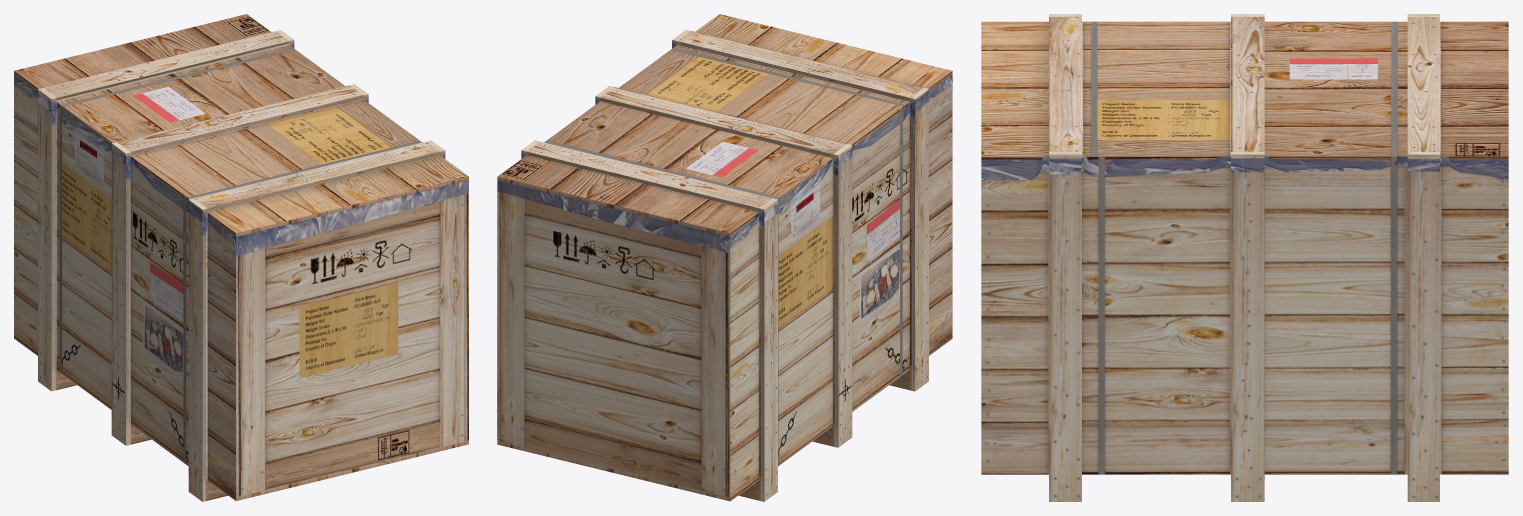
File: hero_crate.glb
3 renders of one model, left to right at view 1: azimuth 30°, elevation 25°; view 2: azimuth 150°, elevation 25°; view 3: azimuth 270°, elevation 25°, orthographic. The views are drawn at different scales.
Parts seen in each view (by area): view 1: Crate_1, Crate_lid; view 2: Crate_1, Crate_lid; view 3: Crate_1, Crate_lid.
Part boxes in pixels (<box>): Crate_1: <box>14,75,468,501</box>; Crate_lid: <box>14,14,468,237</box>; Crate_1: <box>497,75,952,501</box>; Crate_lid: <box>497,14,952,237</box>; Crate_1: <box>981,162,1508,501</box>; Crate_lid: <box>981,14,1508,164</box>.
Size of the model in its own units: 1.11 by 1.28 by 1.76.
Materials: 3 (3 with a texture image).
